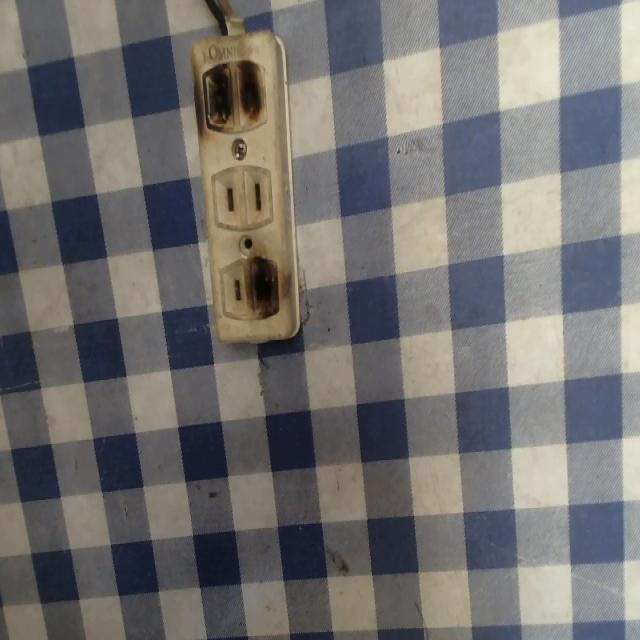-: (199, 57, 269, 132), (244, 255, 284, 324)
